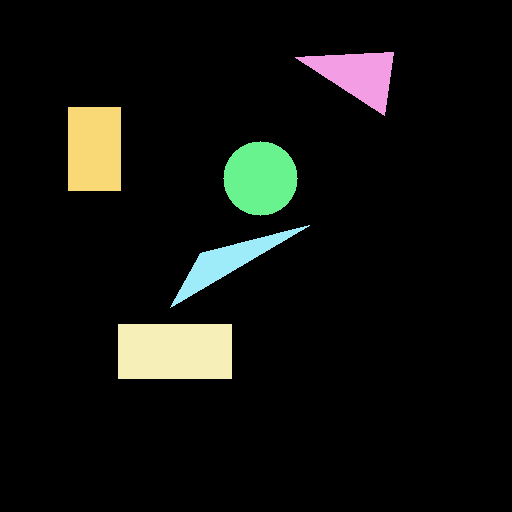circle: (223, 141, 297, 215)
rectangle: (118, 324, 231, 378), (68, 107, 120, 190)
triangle: (170, 225, 309, 307), (295, 52, 393, 115)
